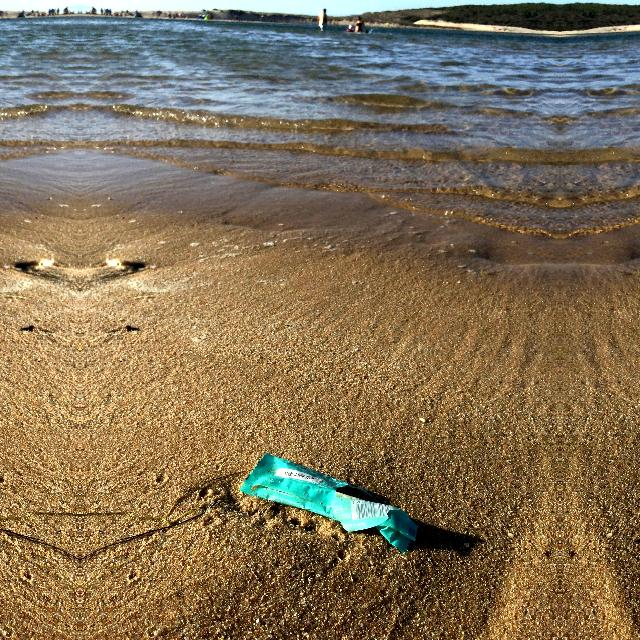Plastic: (232, 438, 440, 568)
